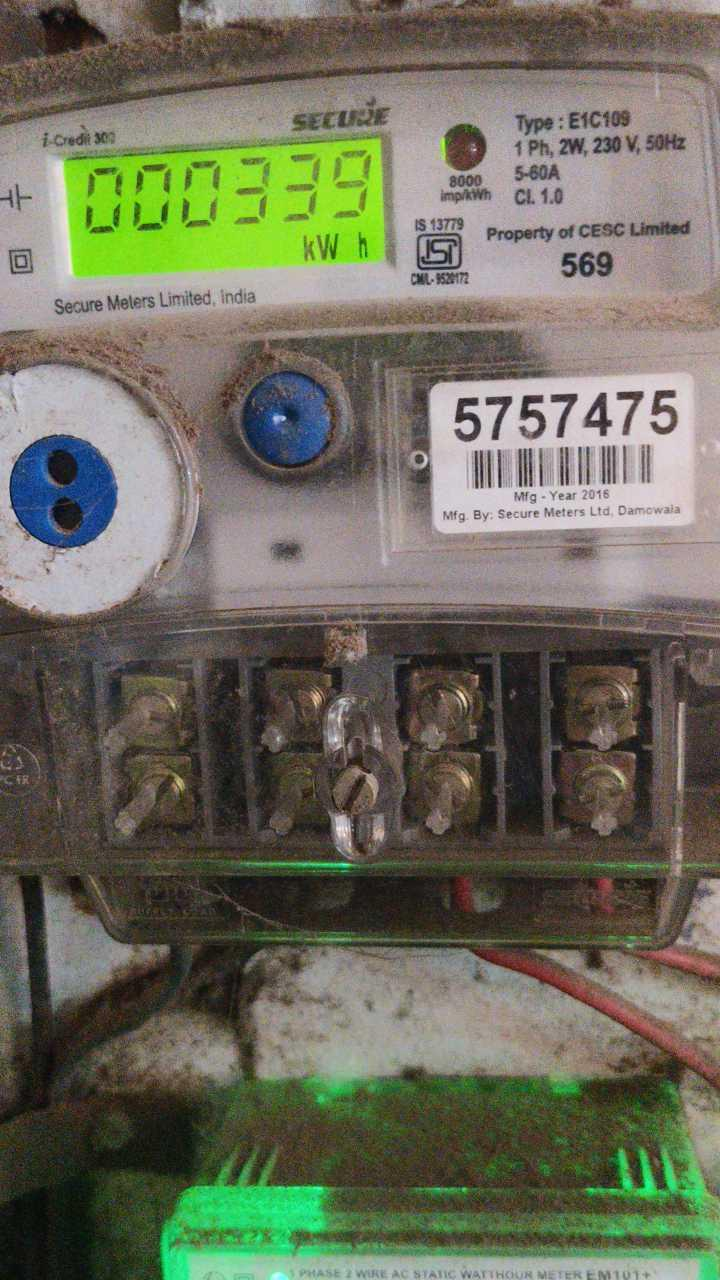meter_readings: (70, 150, 372, 232)
serial_number: (453, 386, 681, 443)
